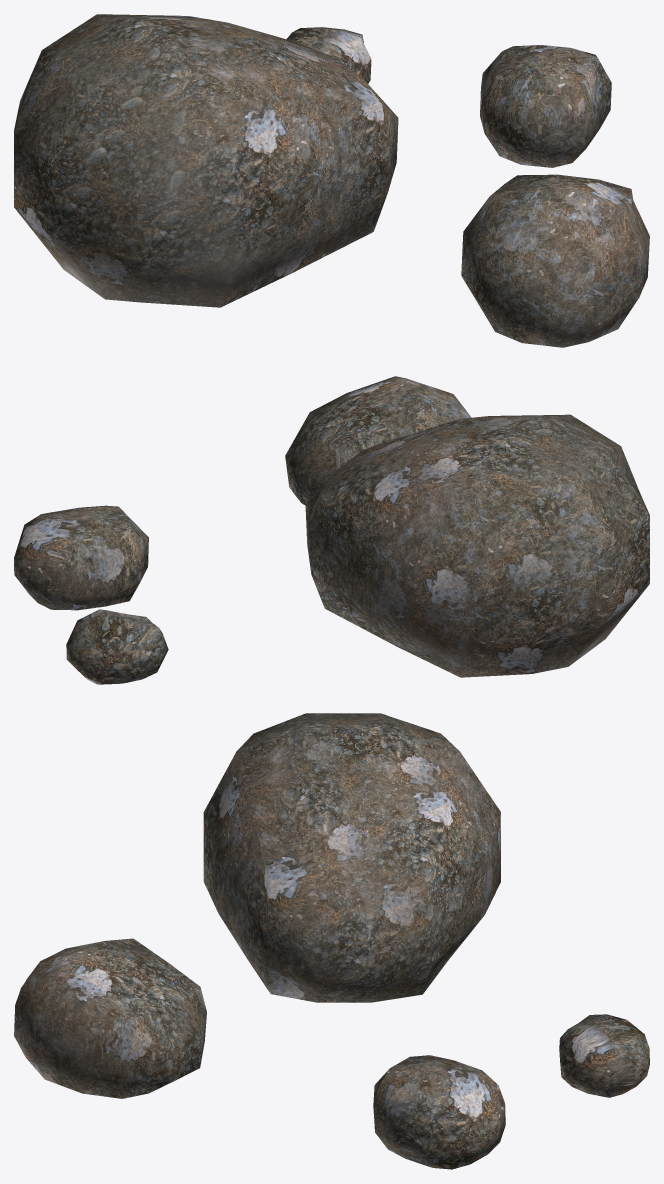
The model's file is Roca_001_Correct_Textures.fbx.
The picture shows the model from 3 angles, top to bottom: view 1: azimuth 30°, elevation 25°; view 2: azimuth 150°, elevation 25°; view 3: azimuth 270°, elevation 25°; orthographic projection. The views are drawn at different scales.
Parts seen in each view (by area): view 1: Cube.003; view 2: Cube.003; view 3: Cube.003.
Boxes of the visible parts, x1,y1,x2,y2 form: Cube.003: [14, 14, 649, 347]; Cube.003: [14, 376, 649, 684]; Cube.003: [14, 713, 649, 1169].
Bounding box in the file's own units: 372 × 145 × 362.
Materials: 1 (1 with a texture image).
